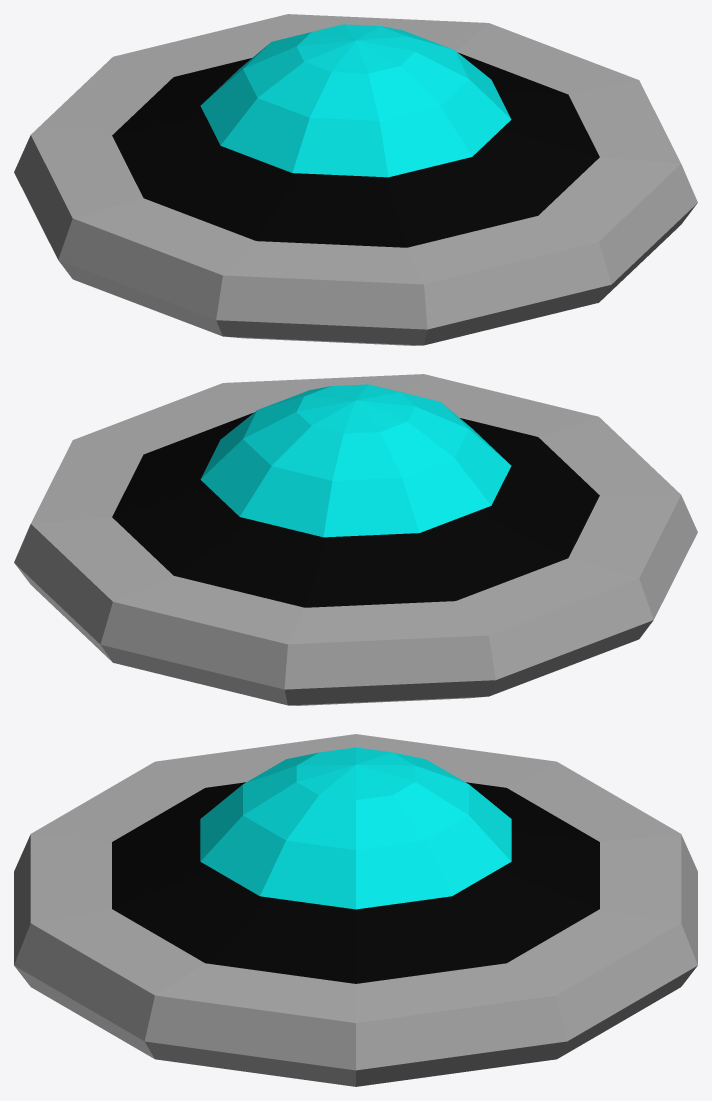
Rendered from flying saucer.fbx.
3 views of the same model, one above another, from view 1: azimuth 30°, elevation 25°; view 2: azimuth 150°, elevation 25°; view 3: azimuth 270°, elevation 25° (orthographic). The views are drawn at different scales.
Visible parts, largest first — view 1: flying_suacer; view 2: flying_suacer; view 3: flying_suacer.
Boxes of the visible parts, x1,y1,x2,y2 form: flying_suacer: [14, 14, 697, 345]; flying_suacer: [14, 374, 697, 705]; flying_suacer: [14, 734, 697, 1086].
Size of the model in its own units: 3.95 by 1.4 by 3.75.
